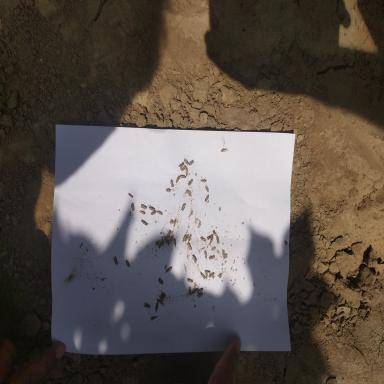pbw: (140, 216, 150, 226), (198, 269, 206, 281), (111, 255, 120, 265), (179, 202, 187, 212), (150, 206, 158, 216), (156, 296, 164, 306), (192, 251, 197, 266), (184, 166, 190, 178), (184, 155, 190, 166), (208, 271, 216, 279), (143, 302, 150, 311), (165, 266, 174, 273), (187, 178, 194, 187), (184, 232, 190, 242), (168, 233, 172, 248), (208, 252, 215, 260), (200, 177, 208, 184), (206, 233, 214, 240), (197, 287, 205, 294), (204, 194, 210, 203), (178, 161, 184, 170), (130, 202, 135, 212), (175, 175, 180, 185), (169, 178, 174, 188), (192, 286, 198, 294), (186, 242, 192, 250), (140, 204, 148, 210), (180, 164, 186, 172), (147, 204, 155, 210), (158, 277, 164, 285), (170, 231, 174, 242), (200, 236, 206, 243), (186, 278, 193, 284), (179, 174, 186, 180), (139, 210, 146, 216), (213, 229, 218, 237), (150, 316, 158, 321), (188, 286, 192, 296), (188, 232, 192, 242), (182, 234, 187, 242), (125, 260, 130, 268), (205, 183, 209, 193), (160, 294, 165, 302), (155, 240, 161, 246), (162, 237, 165, 249), (216, 235, 220, 244), (164, 235, 168, 244), (173, 237, 176, 249), (220, 148, 229, 152), (155, 301, 158, 312), (167, 230, 171, 238), (128, 192, 133, 198), (157, 210, 163, 215), (189, 160, 194, 166), (204, 250, 207, 260), (166, 188, 173, 192), (210, 237, 214, 244), (197, 294, 203, 298), (204, 270, 212, 273), (205, 272, 208, 280), (164, 264, 167, 270), (174, 219, 176, 227), (162, 237, 164, 244)
